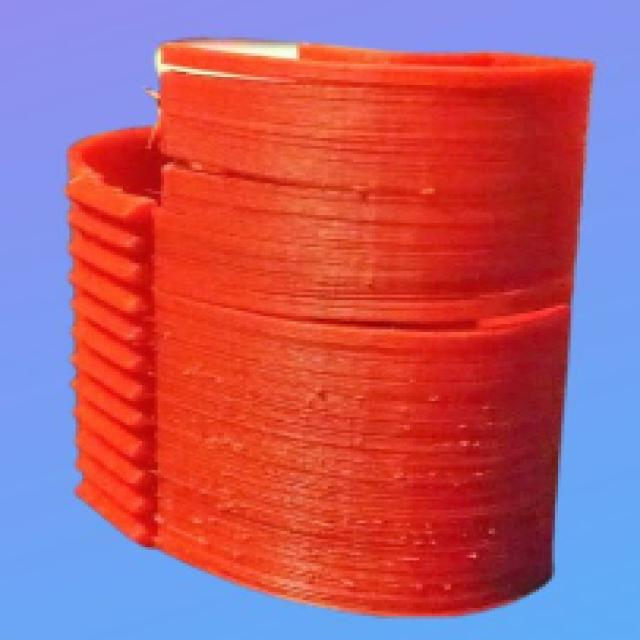cracks: (162, 134, 368, 215), (290, 294, 540, 359)
